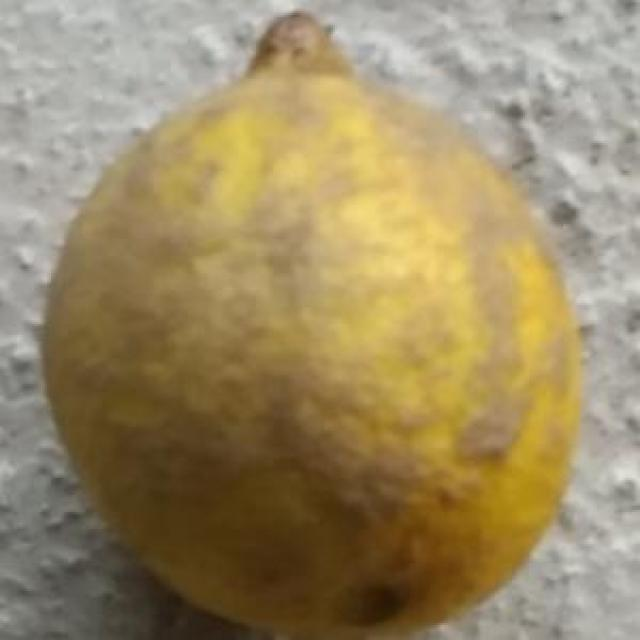lemon: (43, 5, 586, 640)
